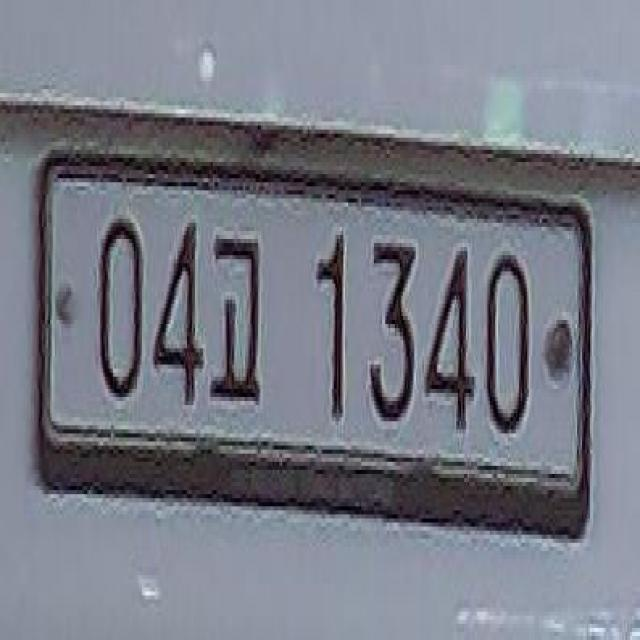illegal_plate: (30, 146, 603, 543)
